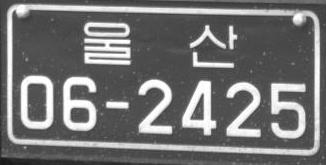0: (19, 73, 54, 130)
2: (226, 79, 262, 138), (137, 76, 173, 134)
4: (181, 79, 216, 136)
5: (270, 81, 307, 139)
6: (62, 75, 97, 131)
울산_D: (83, 20, 237, 67)
